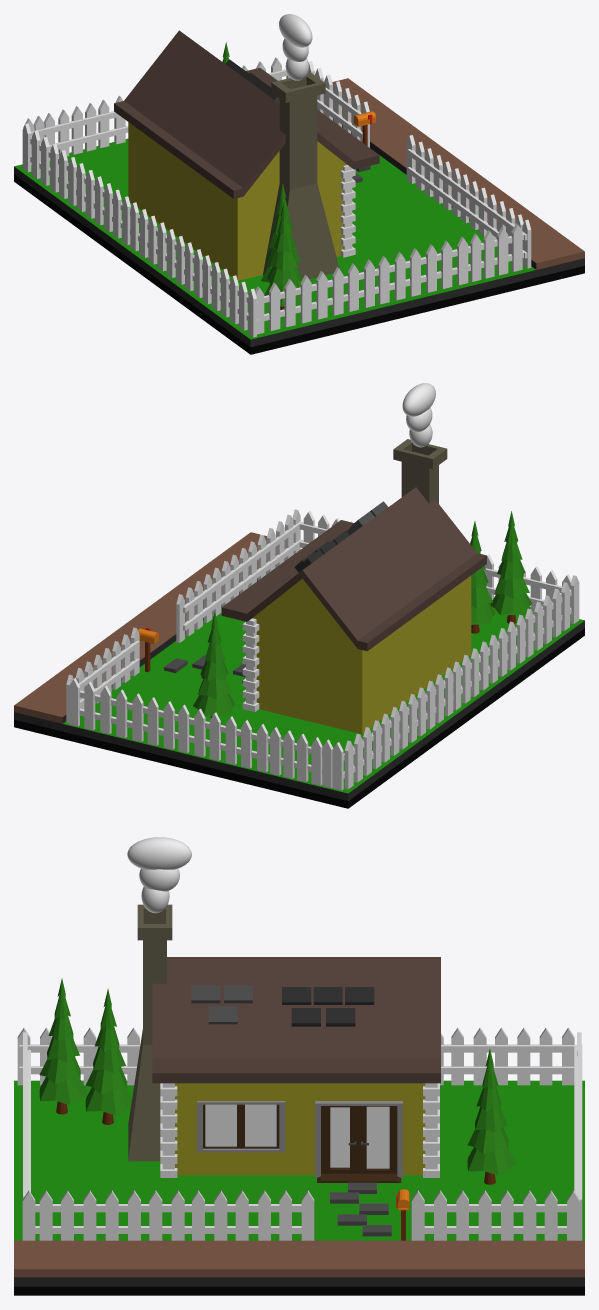
File: house.fbx
3 renders of one model, top to bottom at view 1: azimuth 30°, elevation 25°; view 2: azimuth 150°, elevation 25°; view 3: azimuth 270°, elevation 25°, orthographic. The views are drawn at different scales.
Visible parts, largest first — view 1: Cube.001_Cube.003, Cube_Cube.004, Cube.005_Cube.001, Cylinder.002_Cylinder.006, Cube.084, Sphere.002, Cube.140_Cube.142, Cylinder.004_Cylinder.008, Cube.182_Cube.184, Cube.155_Cube.157, Cube.156_Cube.158, Cube.183_Cube.185 (+17 smaller); view 2: Cube.001_Cube.003, Cube_Cube.004, Cube.005_Cube.001, Cylinder.002_Cylinder.006, Cylinder, Cylinder.004_Cylinder.008, Cube.084, Cube.140_Cube.142, Sphere.002, Cube.183_Cube.185, Cube.182_Cube.184, Cube.155_Cube.157; view 3: Cube_Cube.004, Cube.001_Cube.003, Cube.005_Cube.001, Cylinder, Cylinder.002_Cylinder.006, Cylinder.004_Cylinder.008, Sphere.002, Cube.120, Cube.119, Cube.084, Cube.140_Cube.142, Sphere.001 (+24 smaller).
Part boxes in pixels (bbox=[...]): Cube.001_Cube.003: bbox=[114, 30, 379, 280]; Cube_Cube.004: bbox=[14, 78, 584, 354]; Cube.005_Cube.001: bbox=[263, 73, 339, 279]; Cylinder.002_Cylinder.006: bbox=[264, 201, 302, 306]; Cube.084: bbox=[407, 149, 527, 240]; Sphere.002: bbox=[279, 14, 312, 47]; Cube.140_Cube.142: bbox=[407, 167, 527, 258]; Cylinder.004_Cylinder.008: bbox=[261, 183, 301, 283]; Cube.182_Cube.184: bbox=[31, 69, 287, 135]; Cube.155_Cube.157: bbox=[264, 233, 524, 302]; Cube.156_Cube.158: bbox=[264, 251, 523, 320]; Cube.183_Cube.185: bbox=[31, 125, 128, 153]; Cube.001_Cube.003: bbox=[221, 487, 486, 734]; Cube_Cube.004: bbox=[14, 532, 584, 808]; Cube.005_Cube.001: bbox=[393, 439, 447, 503]; Cylinder.002_Cylinder.006: bbox=[490, 511, 531, 615]; Cylinder: bbox=[193, 611, 235, 716]; Cylinder.004_Cylinder.008: bbox=[470, 521, 495, 624]; Cube.084: bbox=[183, 521, 302, 612]; Cube.140_Cube.142: bbox=[183, 539, 302, 630]; Sphere.002: bbox=[402, 383, 435, 416]; Cube.183_Cube.185: bbox=[79, 708, 344, 778]; Cube.182_Cube.184: bbox=[79, 690, 344, 760]; Cube.155_Cube.157: bbox=[299, 522, 562, 592]; Cube_Cube.004: bbox=[14, 1080, 584, 1295]; Cube.001_Cube.003: bbox=[152, 957, 440, 1182]; Cube.005_Cube.001: bbox=[128, 904, 172, 1161]; Cylinder: bbox=[467, 1049, 516, 1175]; Cylinder.002_Cylinder.006: bbox=[39, 978, 88, 1105]; Cylinder.004_Cylinder.008: bbox=[85, 988, 131, 1115]; Sphere.002: bbox=[127, 837, 191, 869]; Cube.120: bbox=[441, 1066, 574, 1074]; Cube.119: bbox=[441, 1044, 574, 1052]; Cube.084: bbox=[35, 1204, 301, 1212]; Cube.140_Cube.142: bbox=[35, 1226, 301, 1233]; Sphere.001: bbox=[139, 868, 179, 891].
Size of the model in its own units: 1433 by 1096 by 1758.
